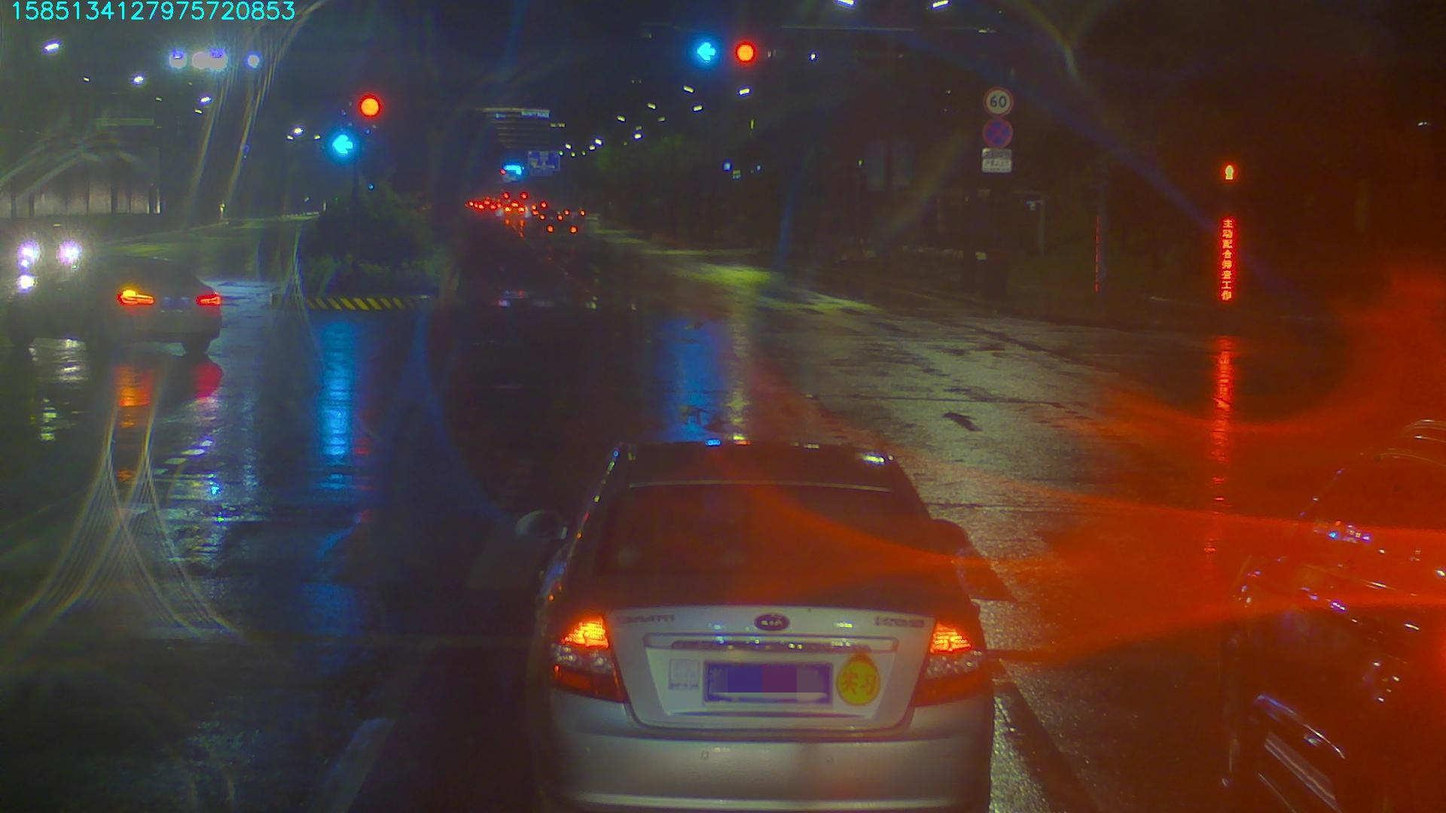green: (691, 38, 722, 58)
red: (736, 42, 762, 69)
